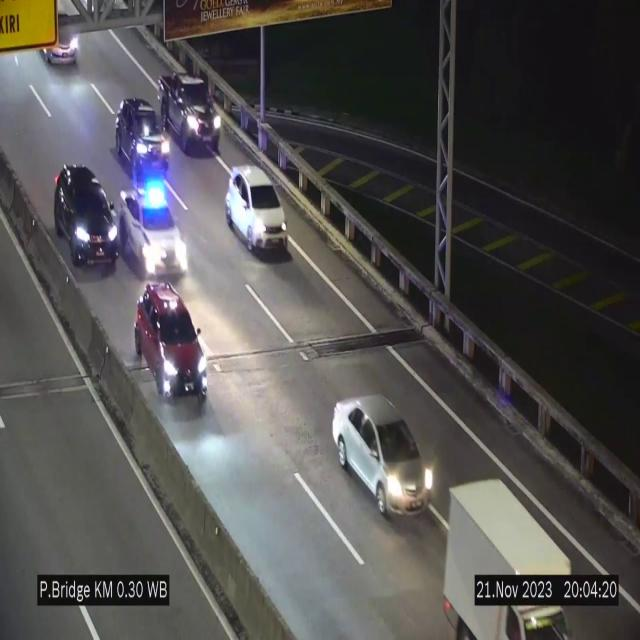Car: (332, 396, 434, 518), (134, 289, 212, 411), (117, 177, 188, 281), (50, 162, 118, 268), (226, 165, 288, 254), (159, 70, 219, 156), (111, 93, 170, 175), (41, 7, 85, 73)
Truck: (444, 476, 578, 640)
